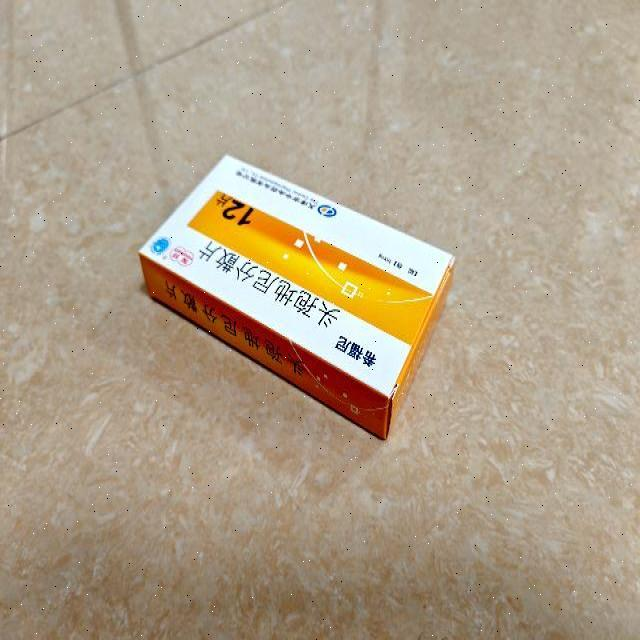box: (138, 154, 454, 440)
